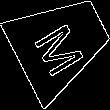M_NE: (31, 11, 91, 75)
